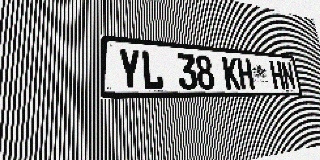3: (177, 53, 198, 90)
8: (195, 54, 215, 89)
H: (237, 58, 255, 89), (269, 61, 286, 89)
K: (222, 57, 241, 89)
L: (141, 50, 164, 90)
N: (281, 62, 296, 89)
Y: (117, 48, 142, 90)
